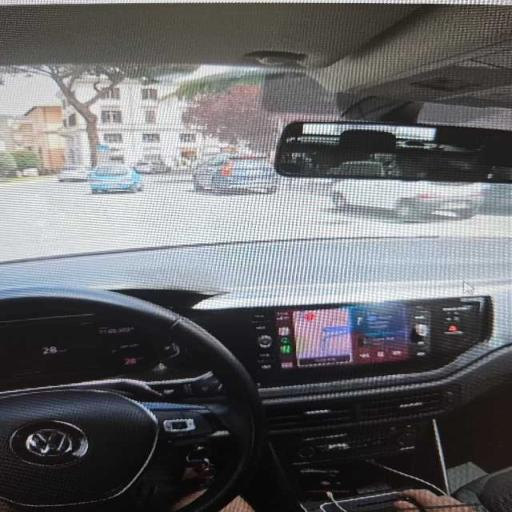car: (0, 0, 511, 511), (331, 179, 482, 220), (192, 155, 278, 193), (90, 164, 142, 193), (483, 184, 511, 212), (58, 166, 91, 181), (135, 161, 170, 174)
lane: (0, 176, 511, 260)
person: (395, 490, 475, 511)
